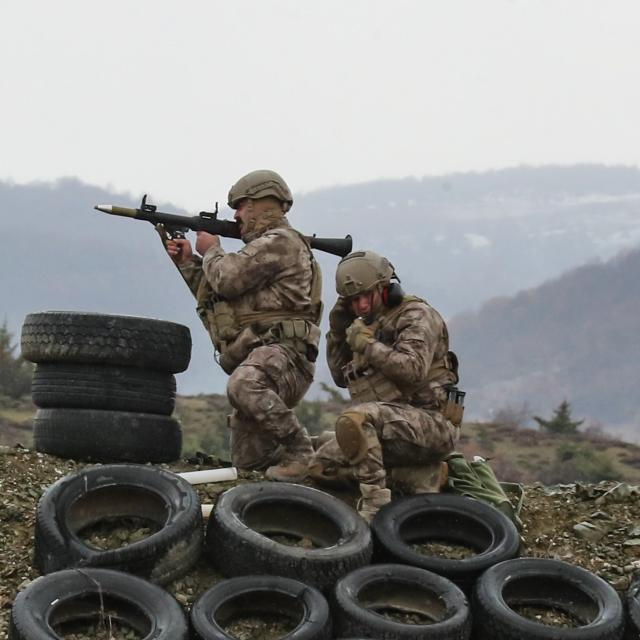poh_personel: (166, 170, 323, 480), (304, 249, 466, 522)
